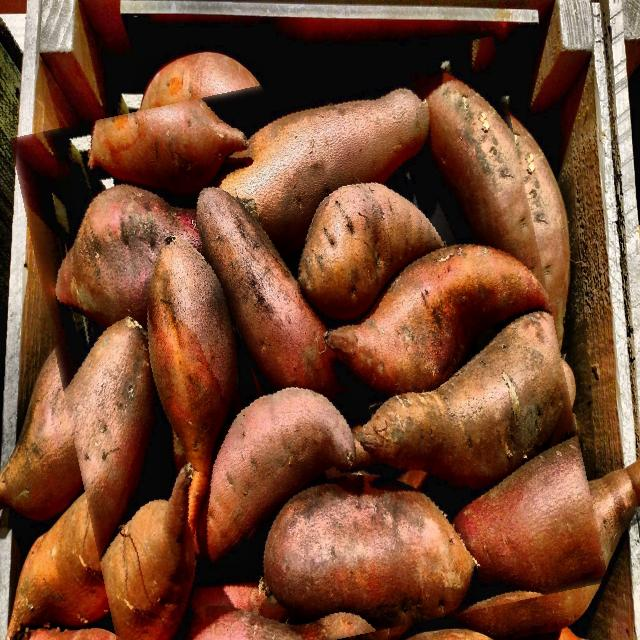potato: (36, 58, 583, 640)
